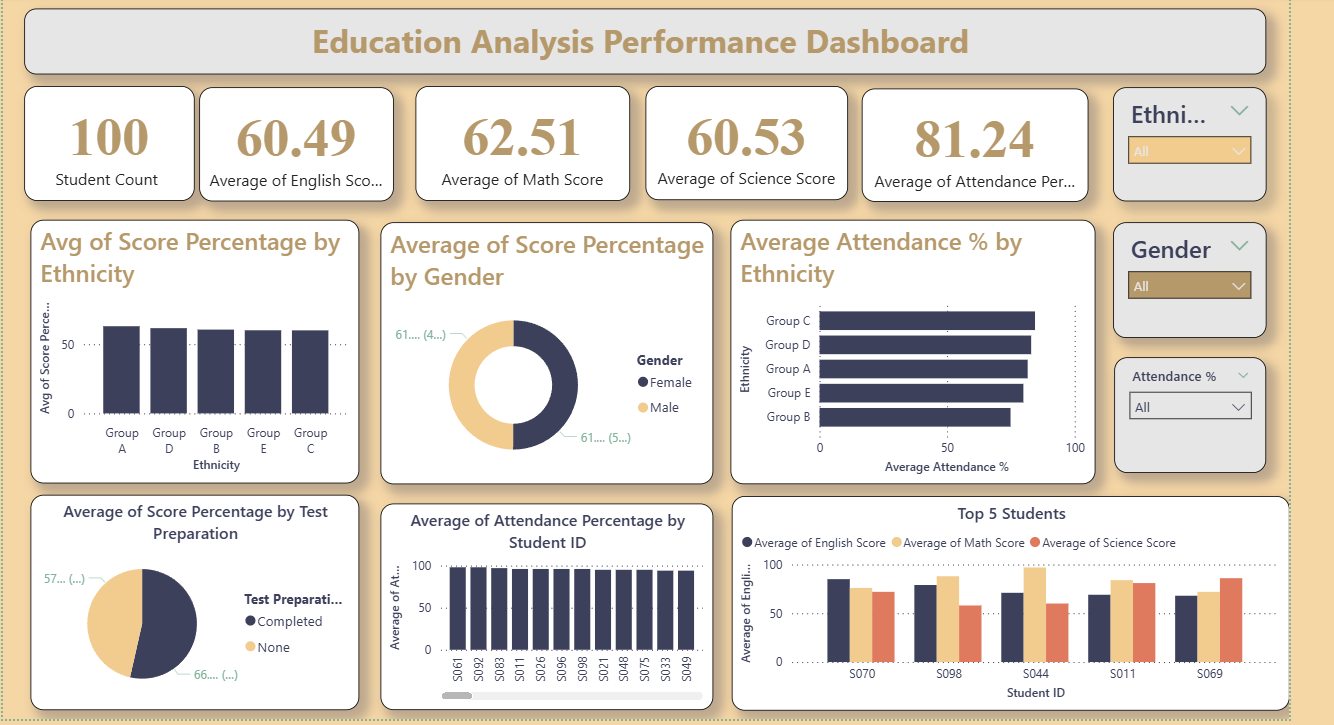

The page's visual inventory and layout, read from the dashboard file:
{"tool":"powerbi","page":{"name":"Page 1","canvas":[1280,720],"ordinal":0},"visuals":[{"type":"textbox","box":[21.4,12.2,1236.1,65.6],"z":0},{"type":"card","fields":{"Values":["Count(Sheet1.Student ID)"]},"box":[21.4,90,169.4,114.4],"z":1000},{"type":"card","fields":{"Values":["Avg(Sheet1.English Score)"]},"box":[194.9,90.6,193.5,113.9],"z":2000},{"type":"card","fields":{"Values":["Avg(Sheet1.Math Score)"]},"box":[410.5,90,213.6,114.4],"z":3000},{"type":"card","fields":{"Values":["Avg(Sheet1.Science Score)"]},"box":[639.5,89.2,201.7,113.9],"z":4000},{"type":"slicer","fields":{"Values":["Sheet1.Ethnicity"]},"box":[1104.6,90.7,152.7,113.8],"z":5000},{"type":"slicer","fields":{"Values":["Sheet1.Gender"]},"box":[1104.6,224.7,152.7,115.2],"z":6000},{"type":"card","fields":{"Values":["Avg(Sheet1.Attendance Percentage)"]},"box":[854.6,91.6,225.8,112.9],"z":7000},{"type":"slicer","fields":{"Values":["Sheet1.Attendance Percentage"]},"box":[1106,360,151.2,115.2],"z":8000},{"type":"columnChart","fields":{"Category":["Sheet1.Ethnicity"],"Y":["Avg(Sheet1.Score Percentage)"]},"box":[27.4,223.2,326.9,262.1],"z":9000},{"type":"donutChart","fields":{"Category":["Sheet1.Gender"],"Y":["Avg(Sheet1.Score Percentage)"]},"box":[375.9,224.7,331.2,260.7],"z":10000},{"type":"clusteredBarChart","fields":{"Category":["Sheet1.Ethnicity"],"Y":["Sheet1.Average Attendance %"]},"box":[724.4,223.2,362.9,263.5],"z":11000},{"type":"pieChart","fields":{"Category":["Sheet1.Test Preparation"],"Y":["Avg(Sheet1.Score Percentage)"]},"box":[27.4,496.9,326.9,214.6],"z":12000},{"type":"lineClusteredColumnComboChart","fields":{"Category":["Sheet1.Student ID"],"Y":["Avg(Sheet1.Attendance Percentage)"]},"box":[375.9,505.5,331.2,205.9],"z":13000},{"type":"clusteredColumnChart","title":"Top 5 Students ","fields":{"Y":["Avg(Sheet1.English Score)","Avg(Sheet1.Math Score)","Avg(Sheet1.Science Score)"],"Category":["Sheet1.Student ID"]},"box":[724.8,497.5,555.5,213.6],"z":14000}]}

Visuals, with their boxes in screenshot pixels (x1, y1, x2, y2):
textbox: box=[28, 9, 1257, 74]
card - Count(Sheet1.Student ID): box=[28, 86, 197, 200]
card - Avg(Sheet1.English Score): box=[201, 87, 393, 200]
card - Avg(Sheet1.Math Score): box=[415, 86, 628, 200]
card - Avg(Sheet1.Science Score): box=[643, 85, 843, 199]
slicer - Sheet1.Ethnicity: box=[1105, 87, 1257, 200]
slicer - Sheet1.Gender: box=[1105, 220, 1257, 335]
card - Avg(Sheet1.Attendance Percentage): box=[857, 88, 1081, 200]
slicer - Sheet1.Attendance Percentage: box=[1107, 355, 1257, 469]
columnChart - Sheet1.Ethnicity x Avg(Sheet1.Score Percentage): box=[34, 218, 359, 479]
donutChart - Sheet1.Gender x Avg(Sheet1.Score Percentage): box=[381, 220, 710, 479]
clusteredBarChart - Sheet1.Ethnicity x Sheet1.Average Attendance %: box=[727, 218, 1088, 481]
pieChart - Sheet1.Test Preparation x Avg(Sheet1.Score Percentage): box=[34, 491, 359, 704]
lineClusteredColumnComboChart - Sheet1.Student ID x Avg(Sheet1.Attendance Percentage): box=[381, 499, 710, 704]
"Top 5 Students " clusteredColumnChart: box=[728, 491, 1280, 704]
